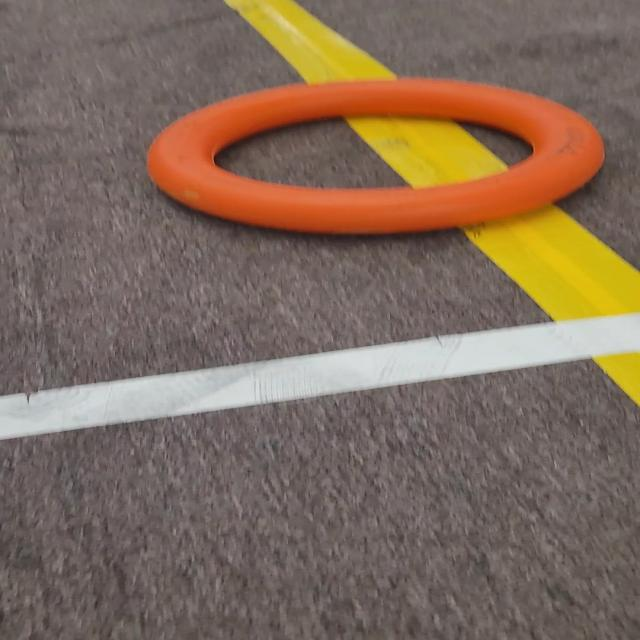note: (136, 57, 626, 242)
